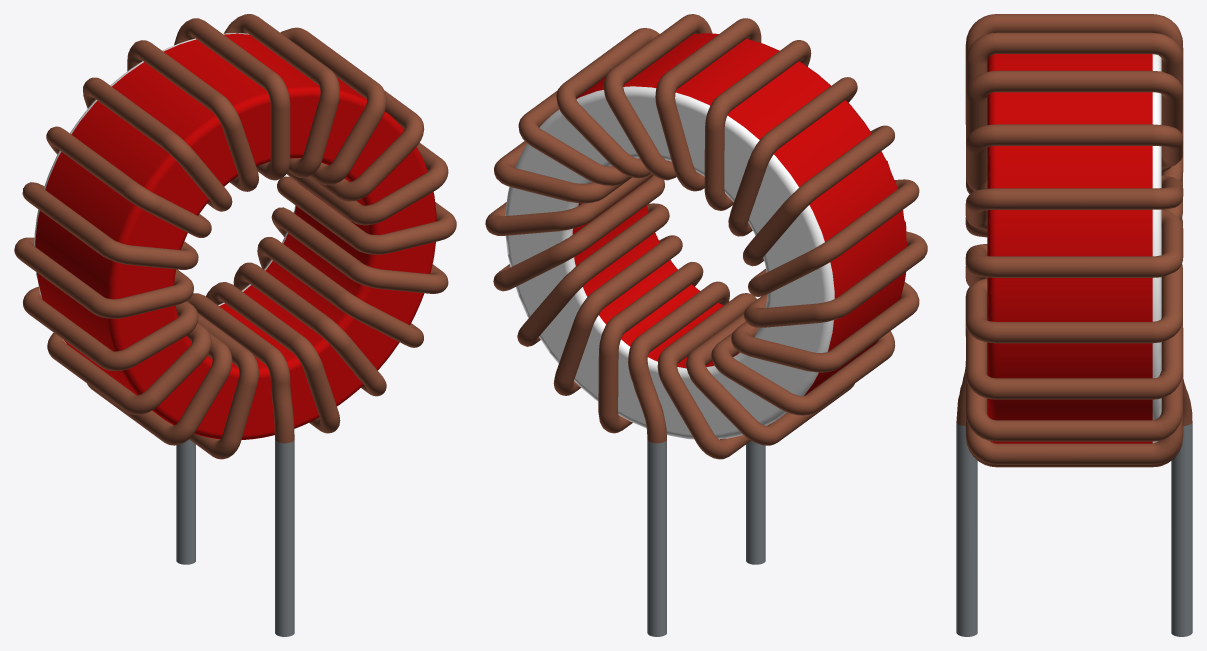
The model's file is WE-SI Leaded Toroidal Storage Choke.gltf.
3 renders of one model, left to right at view 1: azimuth 30°, elevation 25°; view 2: azimuth 150°, elevation 25°; view 3: azimuth 270°, elevation 25°, orthographic. The views are drawn at different scales.
Parts seen in each view (by area): view 1: Turns, Core-T90; view 2: Turns, Core-T90; view 3: Turns, Core-T90.
Part boxes in pixels (bbox=[...]): Turns: bbox=[14, 14, 456, 636]; Core-T90: bbox=[34, 33, 436, 439]; Turns: bbox=[485, 14, 927, 636]; Core-T90: bbox=[505, 33, 907, 439]; Turns: bbox=[956, 14, 1192, 636]; Core-T90: bbox=[987, 54, 1161, 443].
Bounding box in the file's own units: 0.0255 × 0.0369 × 0.0132.
